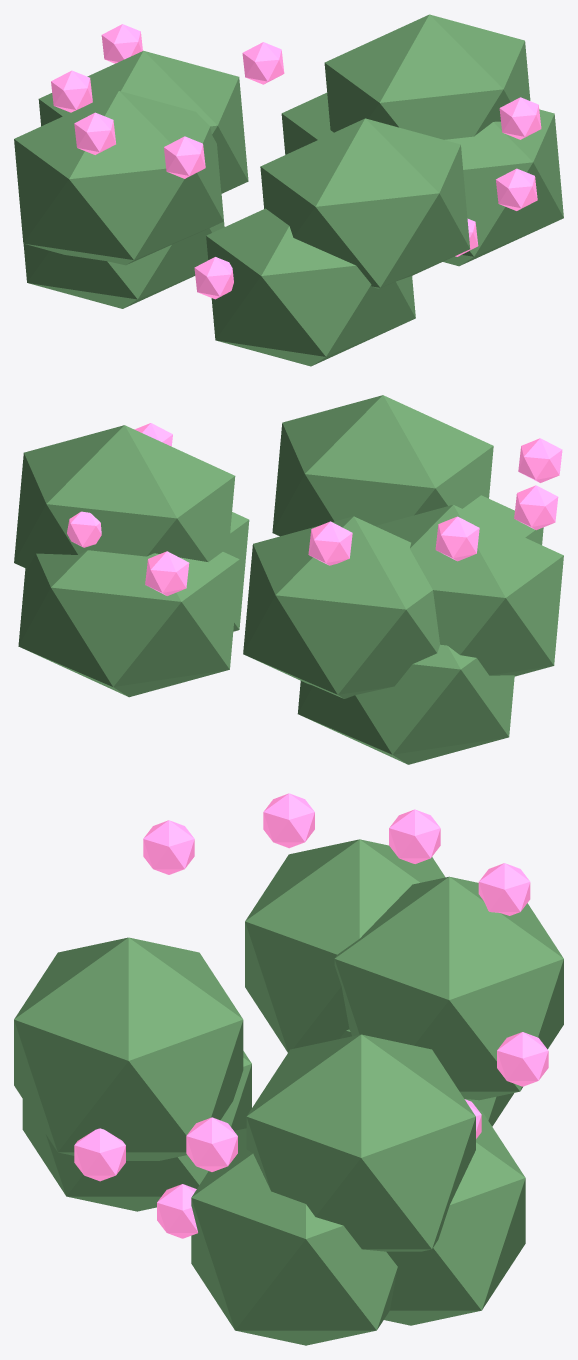
File: greenmere_berry_thicket.glb
The picture shows the model from 3 angles, top to bottom: view 1: azimuth 30°, elevation 25°; view 2: azimuth 150°, elevation 25°; view 3: azimuth 270°, elevation 25°; orthographic projection. The views are drawn at different scales.
Size of the model in its own units: 1.62 by 0.757 by 1.18.
